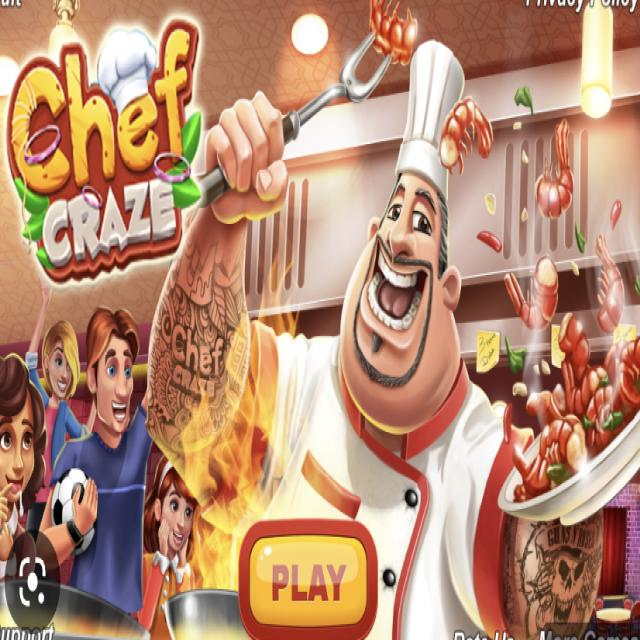Start-button: (242, 514, 372, 637)
